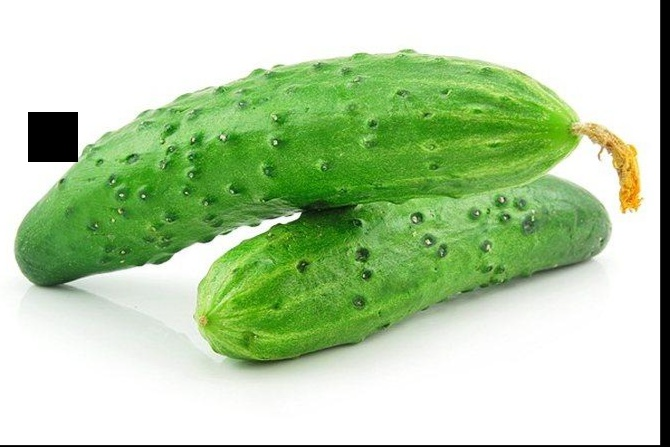cucumber: (24, 42, 583, 283), (213, 179, 606, 353)
